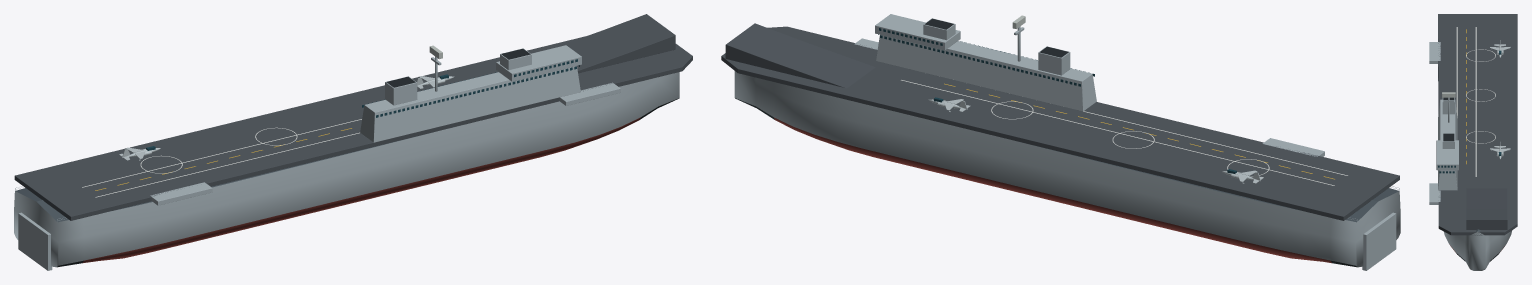
File: esp_lhd_juan_carlos_i.glb
3 renders of one model, left to right at view 1: azimuth 30°, elevation 25°; view 2: azimuth 150°, elevation 25°; view 3: azimuth 270°, elevation 25°, orthographic. The views are drawn at different scales.
Parts seen in each view (by area): view 1: esp_lhd_juan_carlos_i; view 2: esp_lhd_juan_carlos_i; view 3: esp_lhd_juan_carlos_i.
Boxes of the visible parts, x1,y1,x2,y2 form: esp_lhd_juan_carlos_i: [14, 14, 692, 270]; esp_lhd_juan_carlos_i: [721, 14, 1400, 270]; esp_lhd_juan_carlos_i: [1429, 14, 1517, 270].
Bounding box in the file's own units: 10 × 2.1 × 1.69.
